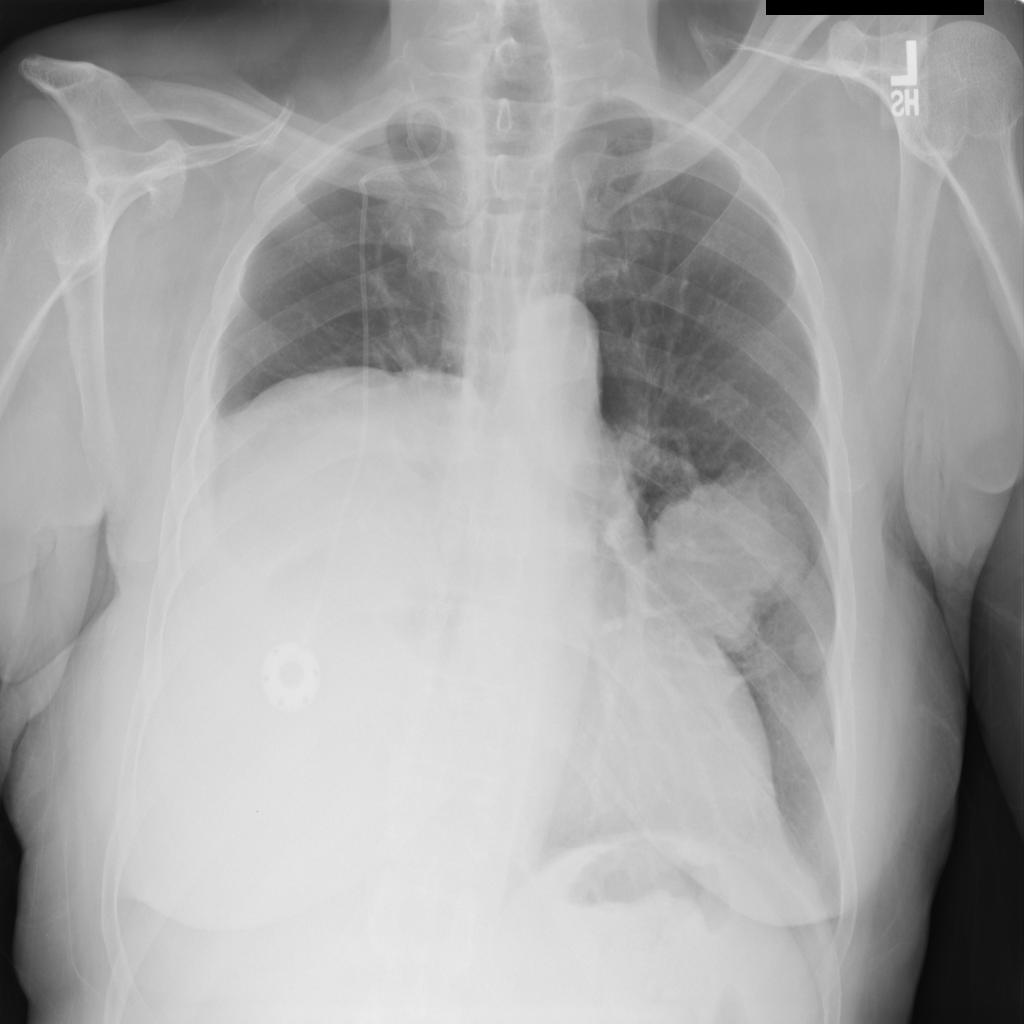nodule: (619, 444, 812, 661), (777, 612, 842, 688)
